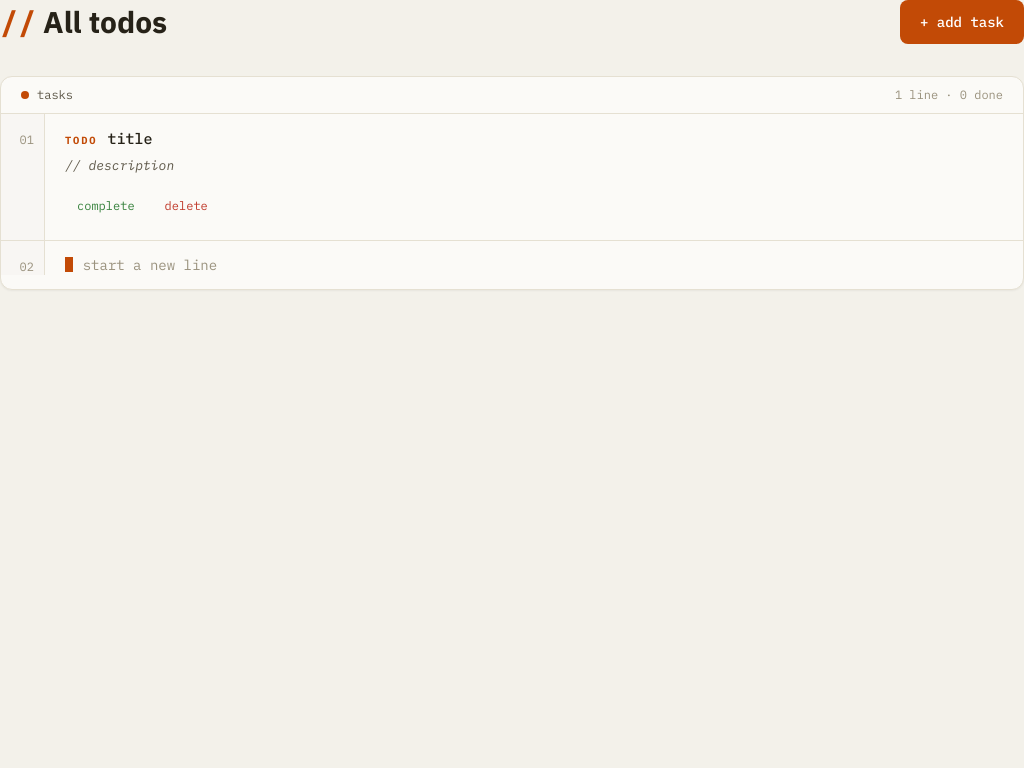
Test: Pages tests › Todolist Page › should open modal on click
The width and height of the screenshot is (1024, 768).
Expected: the link "title" is shown, [107, 128, 152, 150]
Step 1. Click the button "+ add task" → (962, 22), box [900, 0, 1023, 44]
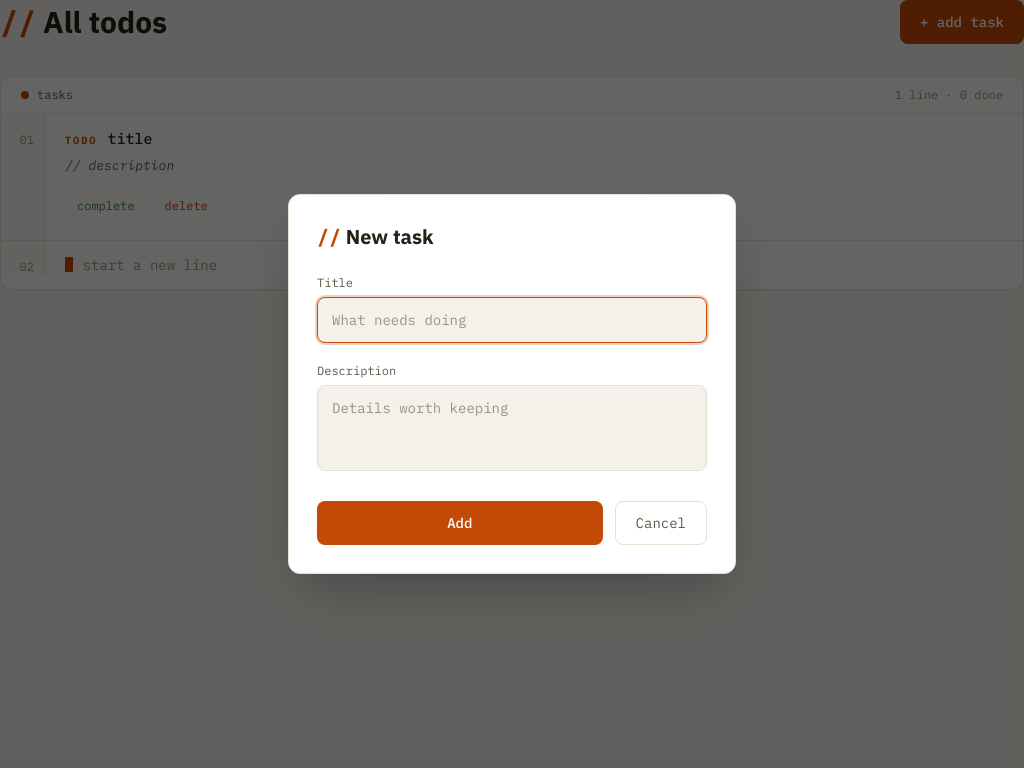
Result: the heading "// New task" is shown at [317, 223, 434, 250]
